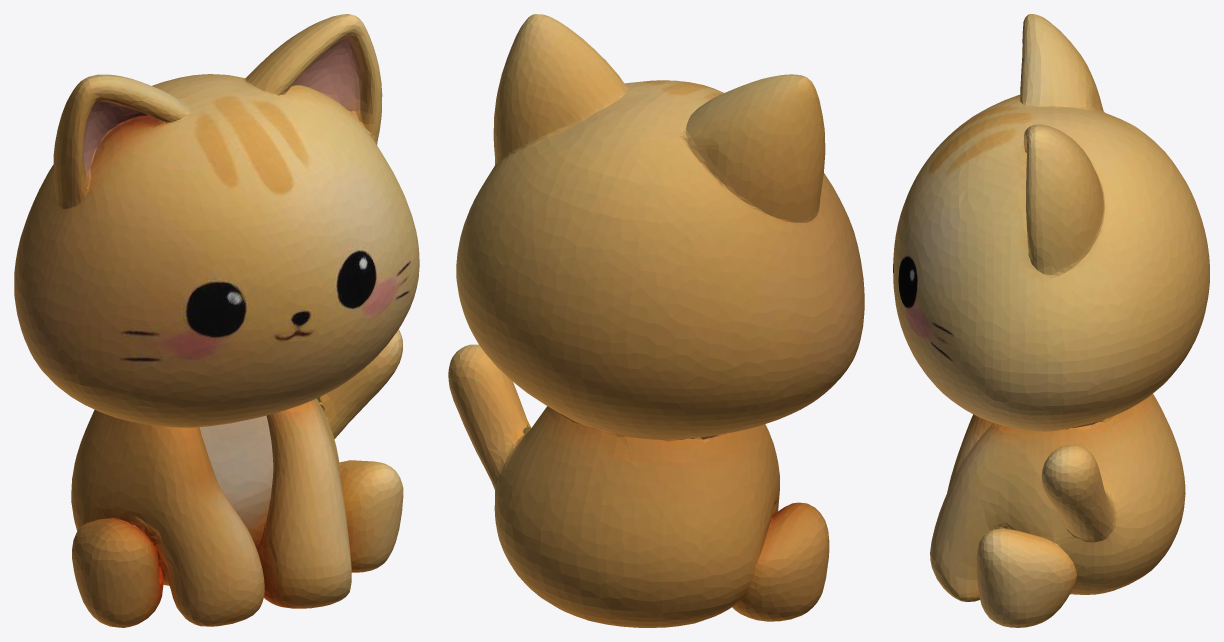
Rendered from cat.glb.
The picture shows the model from 3 angles, left to right: view 1: azimuth 30°, elevation 25°; view 2: azimuth 150°, elevation 25°; view 3: azimuth 270°, elevation 25°; orthographic projection. The views are drawn at different scales.
Parts seen in each view (by area): view 1: geometry_0; view 2: geometry_0; view 3: geometry_0.
Part boxes in pixels (x1,y1,x2,y2): geometry_0: [14, 14, 419, 627]; geometry_0: [448, 14, 864, 627]; geometry_0: [893, 14, 1209, 627].
Bounding box in the file's own units: 0.7312 × 1 × 0.5817.
1 material, 1 textured.
